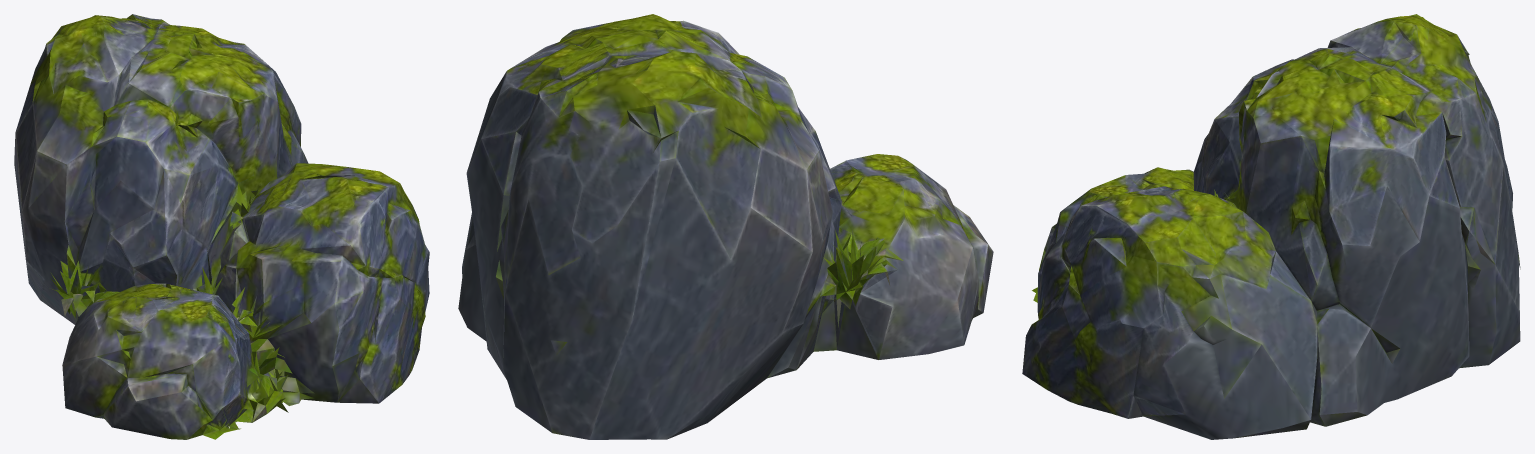
File: rock_cluster.glb
The picture shows the model from 3 angles, left to right: view 1: azimuth 30°, elevation 25°; view 2: azimuth 150°, elevation 25°; view 3: azimuth 270°, elevation 25°; orthographic projection. The views are drawn at different scales.
Parts seen in each view (by area): view 1: Mesh_0; view 2: Mesh_0; view 3: Mesh_0.
Part boxes in pixels (x1,y1,x2,y2): Mesh_0: (14, 14, 429, 439); Mesh_0: (458, 14, 993, 439); Mesh_0: (1022, 14, 1520, 439).
Bounding box in the file's own units: 1.75 × 1.26 × 1.89.
Materials: 1 (1 with a texture image).
